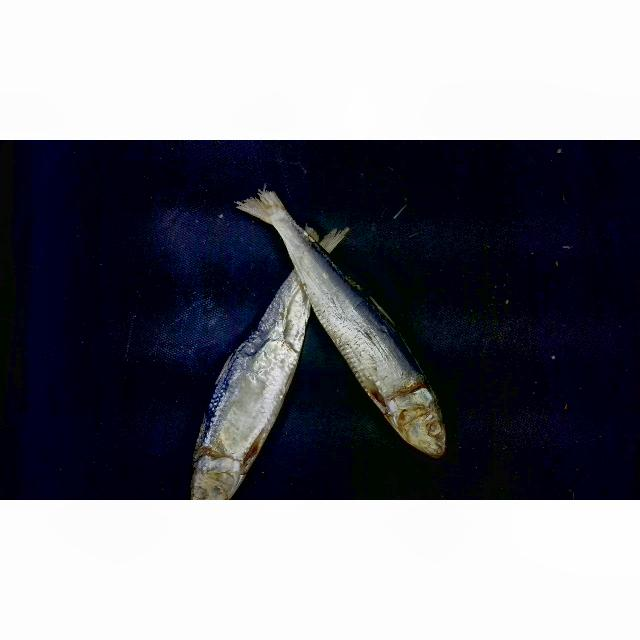Grade_A_Body: (192, 275, 307, 453), (300, 281, 436, 386)
Grade_A_Head: (369, 395, 465, 466), (176, 454, 269, 500)
Grade_A_Tail: (231, 183, 367, 277)
